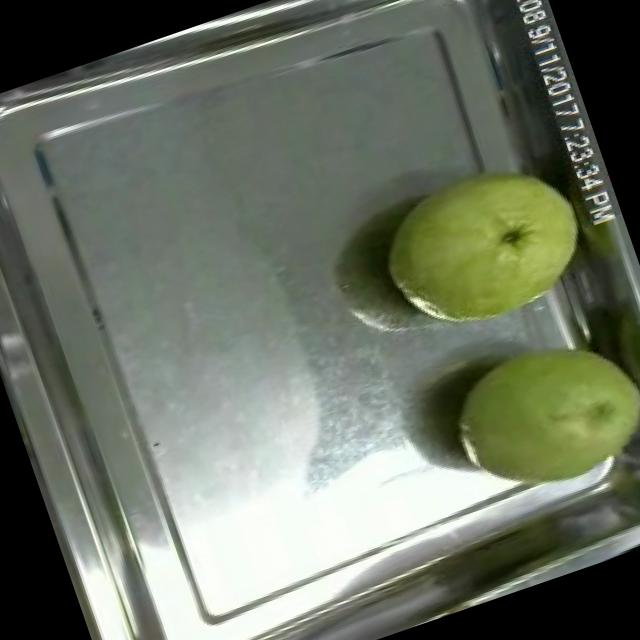Fruit: (356, 134, 610, 358), (421, 298, 640, 536)
